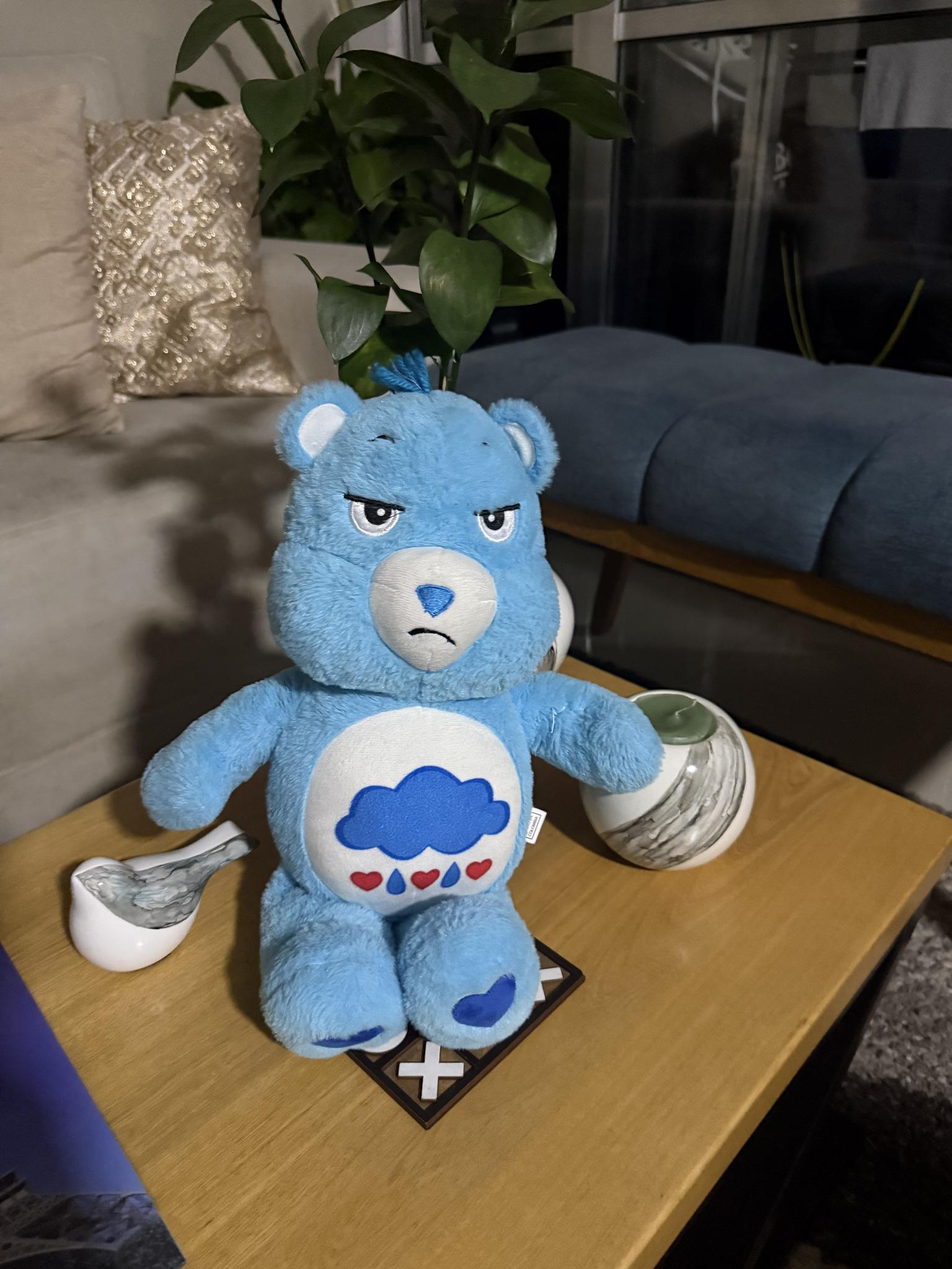peluche_Juan Jose: (131, 384, 656, 1053)
